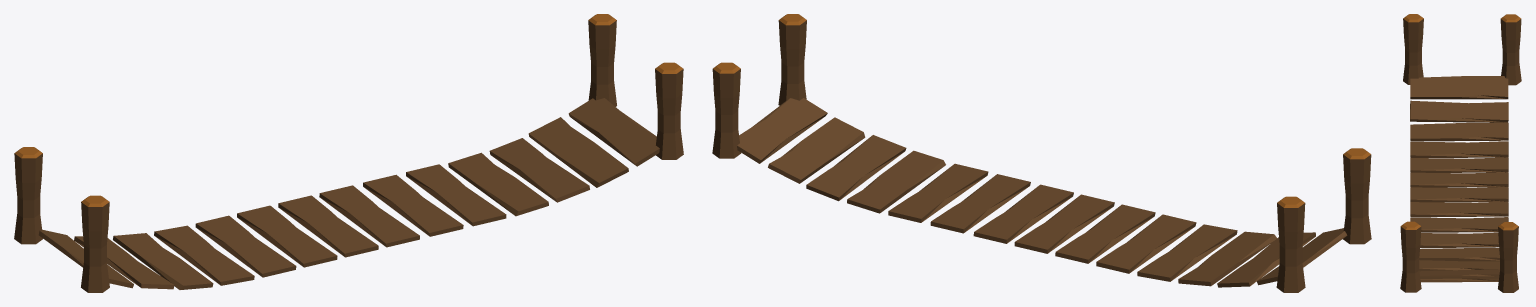
The model's file is Bridge_Timber_Hanging_Large_01.fbx.
3 renders of one model, left to right at view 1: azimuth 30°, elevation 25°; view 2: azimuth 150°, elevation 25°; view 3: azimuth 270°, elevation 25°, orthographic. The views are drawn at different scales.
Parts seen in each view (by area): view 1: Bridge_Timber_Hanging_Large_01; view 2: Bridge_Timber_Hanging_Large_01; view 3: Bridge_Timber_Hanging_Large_01.
Part boxes in pixels (box(x1,y1,x2,y2)): Bridge_Timber_Hanging_Large_01: box(14, 14, 683, 292); Bridge_Timber_Hanging_Large_01: box(712, 14, 1371, 292); Bridge_Timber_Hanging_Large_01: box(1400, 14, 1521, 292).
Size of the model in its own units: 369 by 69.54 by 89.43.
